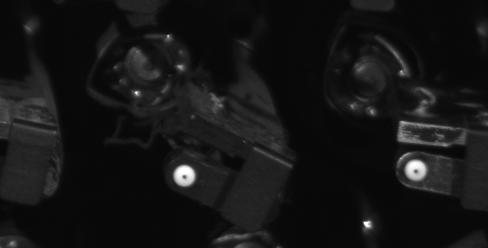fiber: (399, 154, 432, 185), (168, 163, 201, 190)
